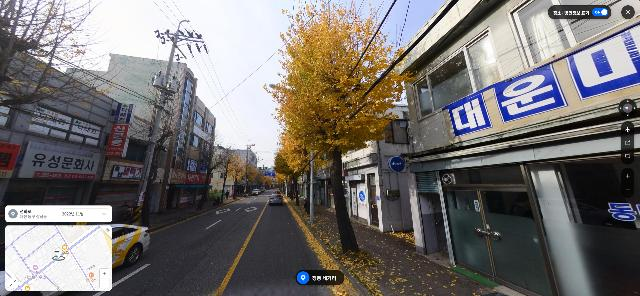ginkgo: (264, 0, 417, 253), (278, 130, 323, 213), (275, 148, 303, 202), (275, 153, 296, 199), (226, 155, 247, 198)
other: (121, 75, 194, 228), (190, 130, 227, 210), (216, 143, 238, 203)
